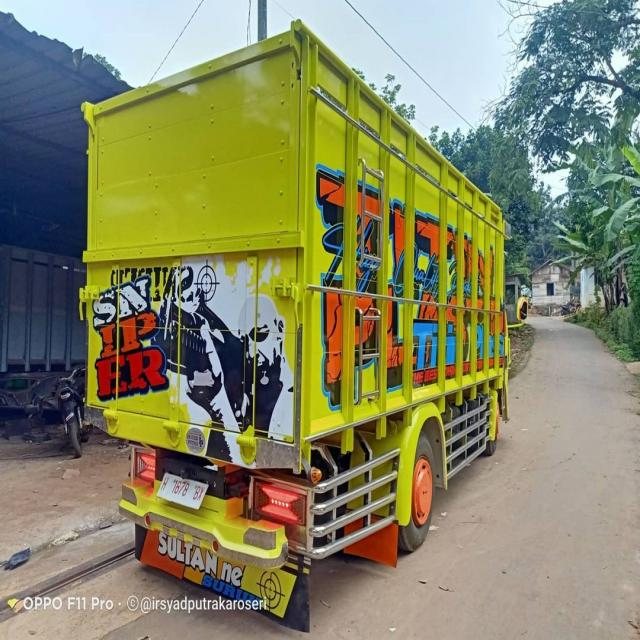truck: (75, 16, 526, 631)
